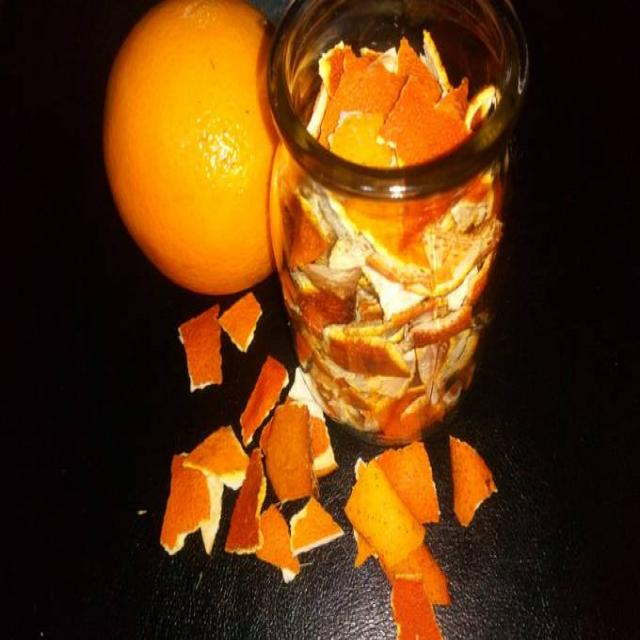Cascara de naranja: (278, 186, 494, 422), (343, 459, 426, 572), (260, 399, 315, 500), (159, 454, 210, 548), (448, 436, 496, 529), (184, 423, 249, 490), (239, 355, 286, 446), (227, 453, 266, 554), (180, 304, 222, 386), (391, 574, 443, 640), (220, 289, 263, 352)
